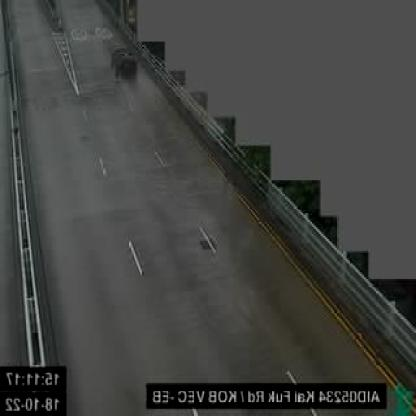Car: (110, 50, 138, 78)
